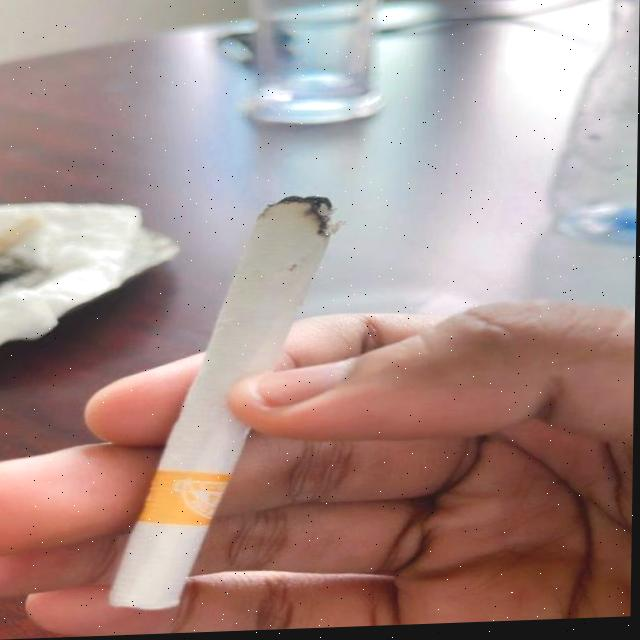cigarette: (111, 194, 339, 611)
